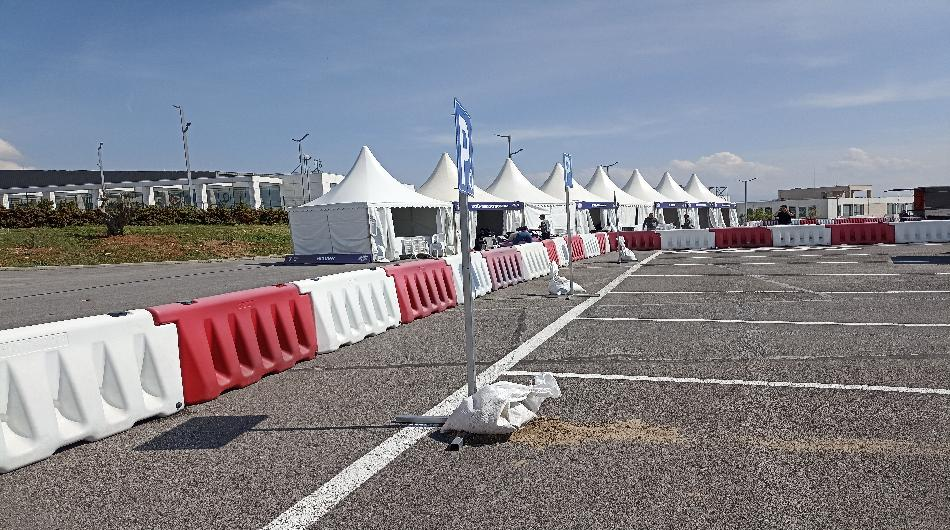engelli_park: (452, 96, 478, 198)
park: (562, 151, 580, 191)
